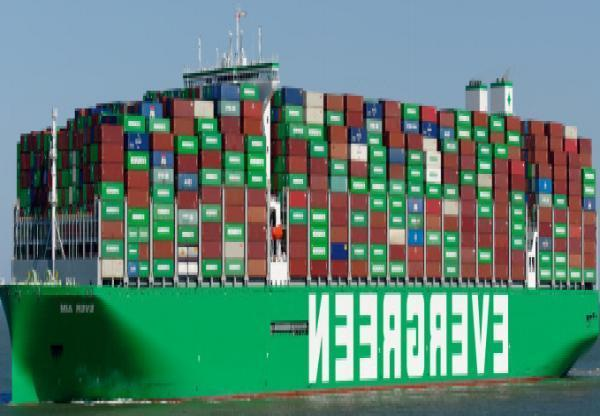Container Ship: (0, 7, 598, 406)
